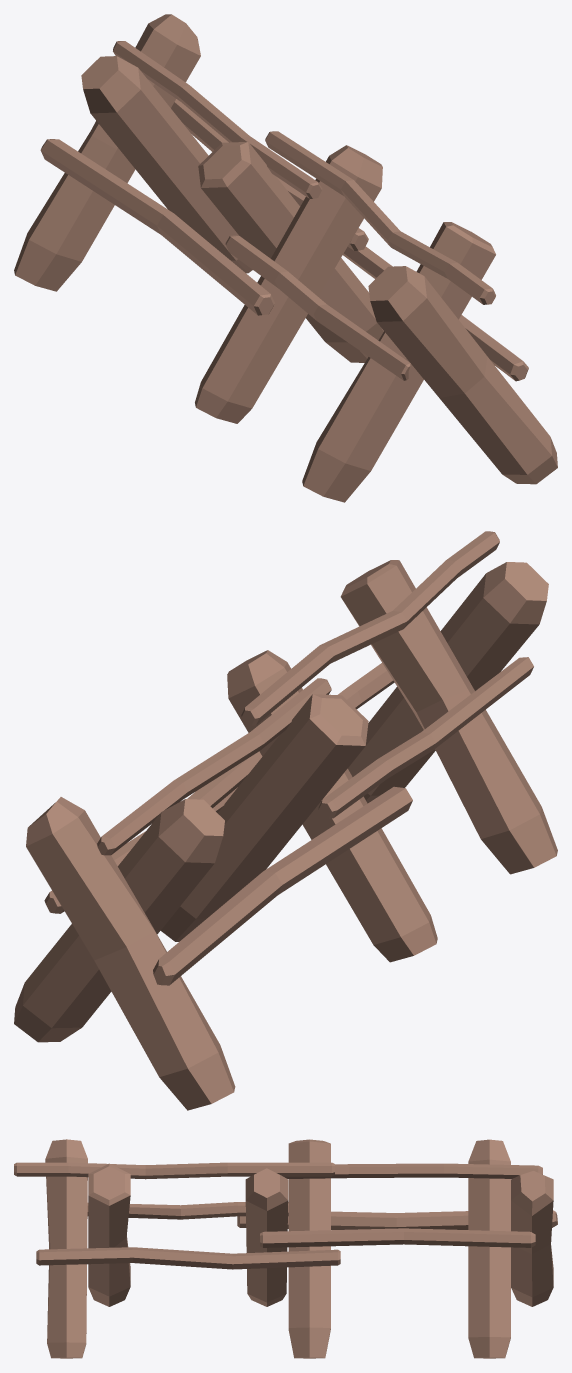
File: fence5.fbx
3 renders of one model, top to bottom at view 1: azimuth 30°, elevation 25°; view 2: azimuth 150°, elevation 25°; view 3: azimuth 270°, elevation 25°, orthographic. The views are drawn at different scales.
Parts seen in each view (by area): view 1: Cylinder; view 2: Cylinder; view 3: Cylinder.
Part boxes in pixels (x1=…): Cylinder: x1=14, y1=14, x2=557, y2=502; Cylinder: x1=14, y1=531, x2=557, y2=1110; Cylinder: x1=14, y1=1139, x2=557, y2=1358.
Bounding box in the file's own units: 111 × 116 × 318.
